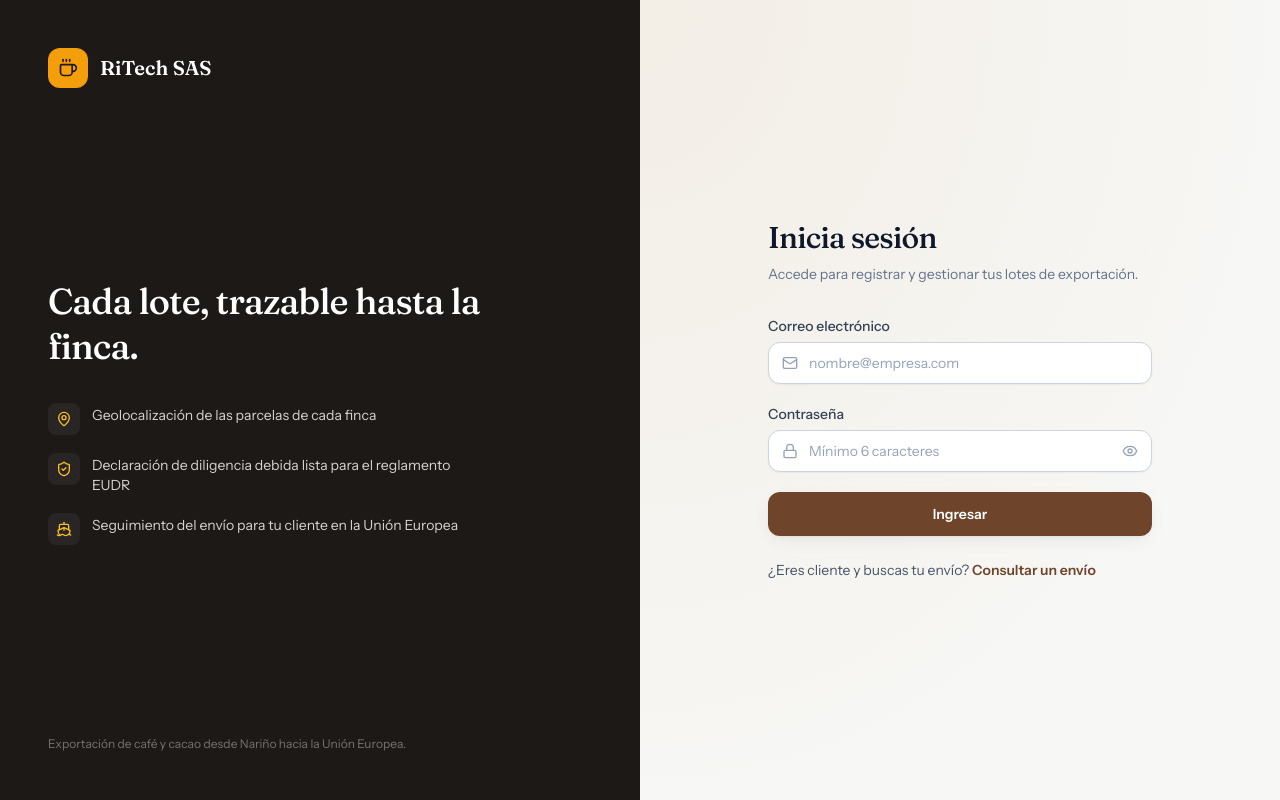
Scenario: App (integración: rutas + sesión + vistas) › desde el login se puede ir al seguimiento público y consultar un envío
Click the link "Consultar un envío" at (1034, 570), box x1=972 y1=561 x2=1096 y2=579
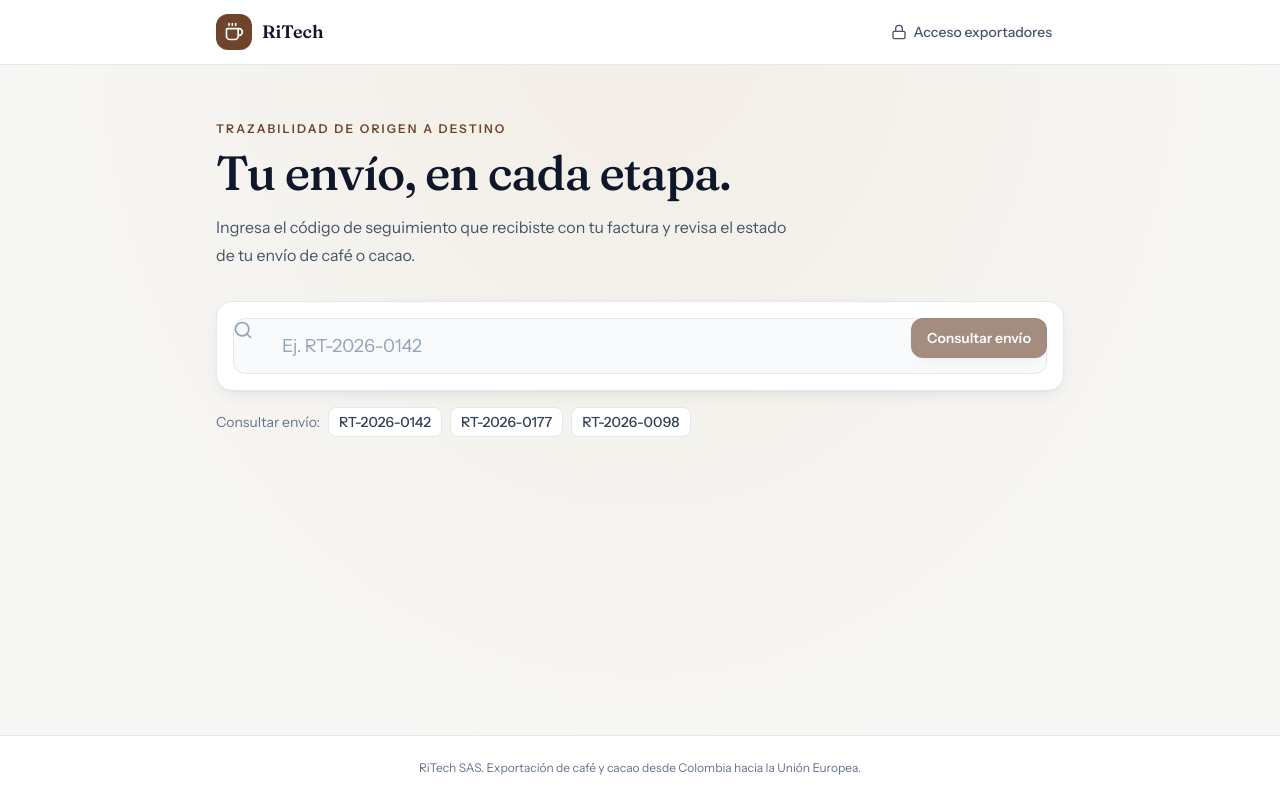
Type "RT-2026-0142" into the field named "Código de seguimiento" at (640, 346), box x1=233 y1=318 x2=1047 y2=374
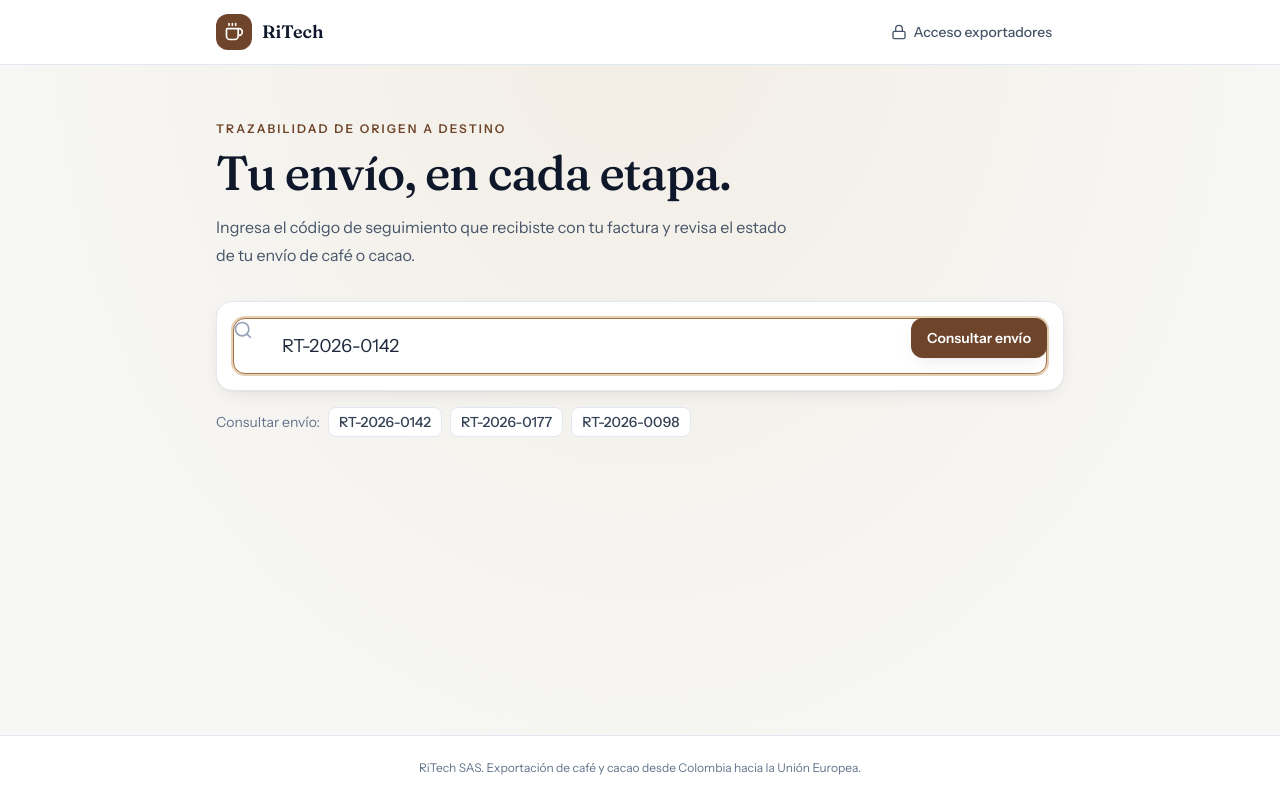
Click the button "Consultar envío" at (979, 338), box x1=911 y1=318 x2=1047 y2=358
(page scrolled)
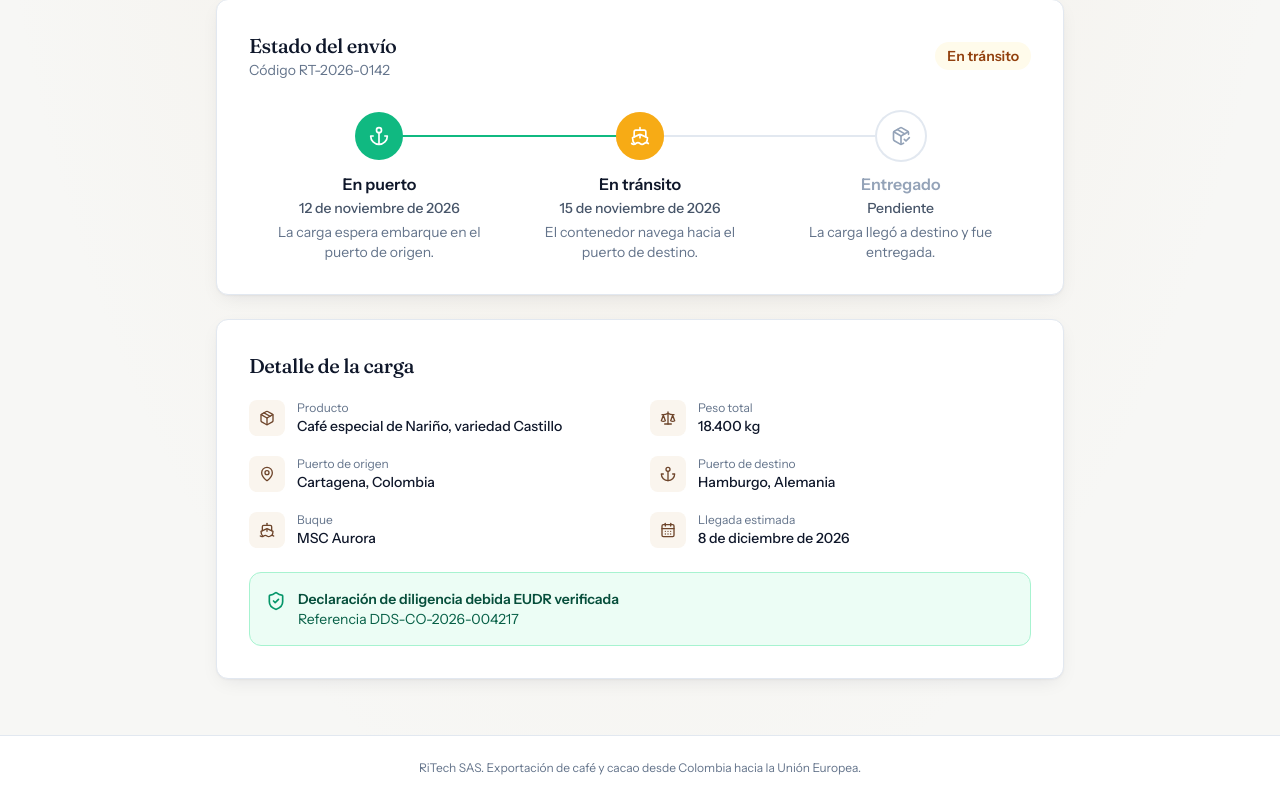
Now the text "MSC Aurora" is shown, box x1=297 y1=528 x2=376 y2=548
